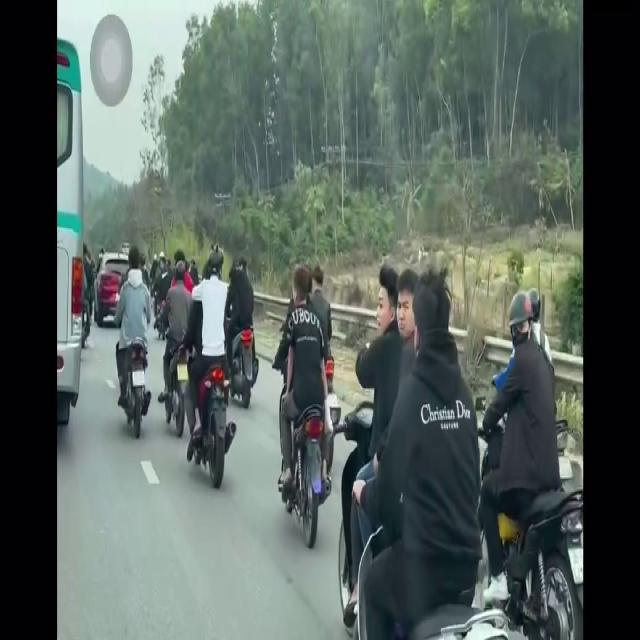helmet: (507, 294, 534, 352), (208, 240, 225, 288)
no_helmet: (414, 258, 453, 358), (378, 257, 398, 337), (397, 266, 417, 342), (292, 259, 310, 318), (314, 254, 327, 303), (128, 237, 143, 276)
